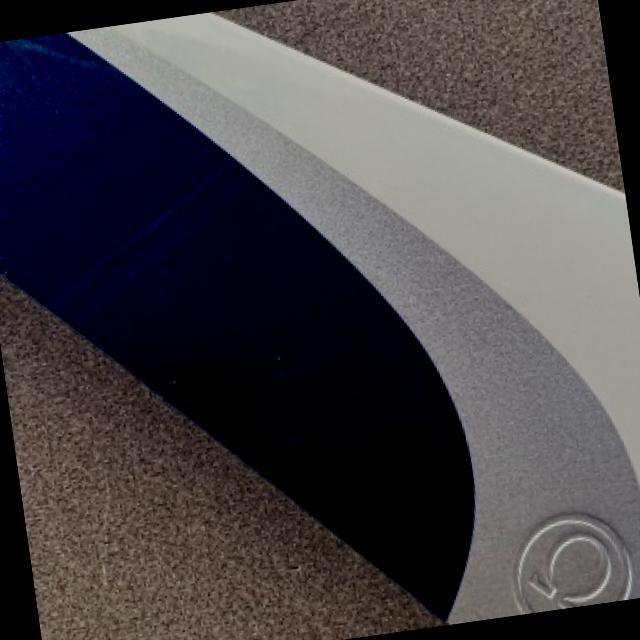healthy: (0, 13, 640, 623)
